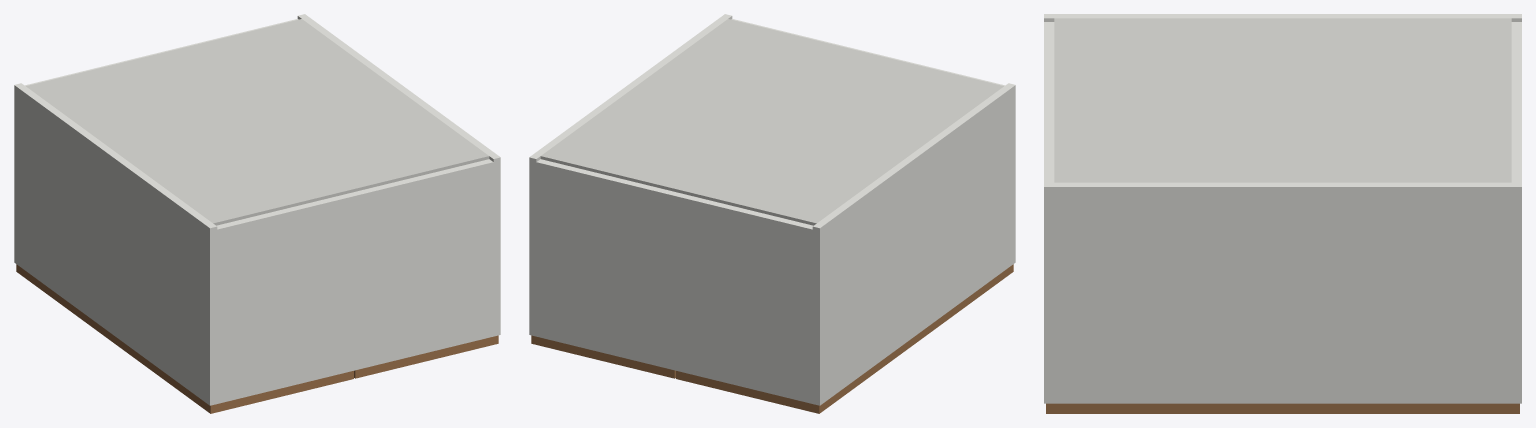
File: M06_wall_cabinet.obj
3 renders of one model, left to right at view 1: azimuth 30°, elevation 25°; view 2: azimuth 150°, elevation 25°; view 3: azimuth 270°, elevation 25°, orthographic. The views are drawn at different scales.
Visible parts, largest first — view 1: M06_wall_cabinet_Fundo, M06_wall_cabinet_Tampo_Interno, M06_wall_cabinet_Lateral_Esquerda, M06_wall_cabinet_Lateral_Direita, M06_wall_cabinet_Porta_1, M06_wall_cabinet_Porta_2, M06_wall_cabinet_Base; view 2: M06_wall_cabinet_Fundo, M06_wall_cabinet_Base, M06_wall_cabinet_Lateral_Esquerda, M06_wall_cabinet_Lateral_Direita, M06_wall_cabinet_Porta_1, M06_wall_cabinet_Porta_2, M06_wall_cabinet_Tampo_Interno; view 3: M06_wall_cabinet_Lateral_Direita, M06_wall_cabinet_Fundo, M06_wall_cabinet_Porta_2, M06_wall_cabinet_Lateral_Esquerda, M06_wall_cabinet_Base, M06_wall_cabinet_Tampo_Interno.
Boxes of the visible parts, x1=… form: M06_wall_cabinet_Fundo: x1=26, y1=19, x2=489, y2=225; M06_wall_cabinet_Tampo_Interno: x1=216, y1=159, x2=493, y2=403; M06_wall_cabinet_Lateral_Esquerda: x1=14, y1=83, x2=217, y2=405; M06_wall_cabinet_Lateral_Direita: x1=297, y1=14, x2=500, y2=336; M06_wall_cabinet_Porta_1: x1=16, y1=264, x2=353, y2=413; M06_wall_cabinet_Porta_2: x1=354, y1=335, x2=498, y2=378; M06_wall_cabinet_Base: x1=25, y1=19, x2=298, y2=85; M06_wall_cabinet_Fundo: x1=540, y1=19, x2=1003, y2=225; M06_wall_cabinet_Base: x1=536, y1=159, x2=813, y2=403; M06_wall_cabinet_Lateral_Esquerda: x1=812, y1=83, x2=1015, y2=405; M06_wall_cabinet_Lateral_Direita: x1=529, y1=14, x2=732, y2=336; M06_wall_cabinet_Porta_1: x1=676, y1=264, x2=1013, y2=413; M06_wall_cabinet_Porta_2: x1=531, y1=335, x2=675, y2=378; M06_wall_cabinet_Tampo_Interno: x1=731, y1=19, x2=1004, y2=85; M06_wall_cabinet_Lateral_Direita: x1=1044, y1=182, x2=1521, y2=403; M06_wall_cabinet_Fundo: x1=1054, y1=18, x2=1511, y2=182; M06_wall_cabinet_Porta_2: x1=1046, y1=403, x2=1519, y2=413; M06_wall_cabinet_Lateral_Esquerda: x1=1044, y1=14, x2=1521, y2=21; M06_wall_cabinet_Base: x1=1511, y1=22, x2=1521, y2=182; M06_wall_cabinet_Tampo_Interno: x1=1044, y1=22, x2=1054, y2=182.
Size of the model in its own units: 600 by 388 by 700.
